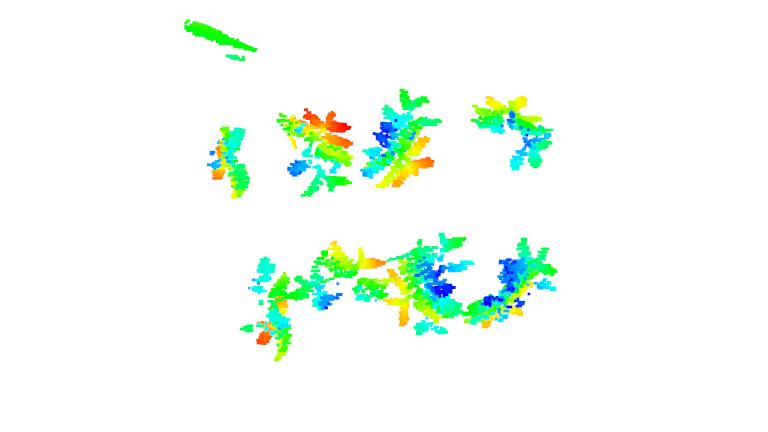chickpea: (382, 227, 470, 336), (464, 236, 555, 329), (239, 254, 310, 364), (360, 88, 434, 192), (274, 106, 356, 199), (470, 91, 554, 174), (307, 238, 388, 310), (206, 121, 251, 200)
